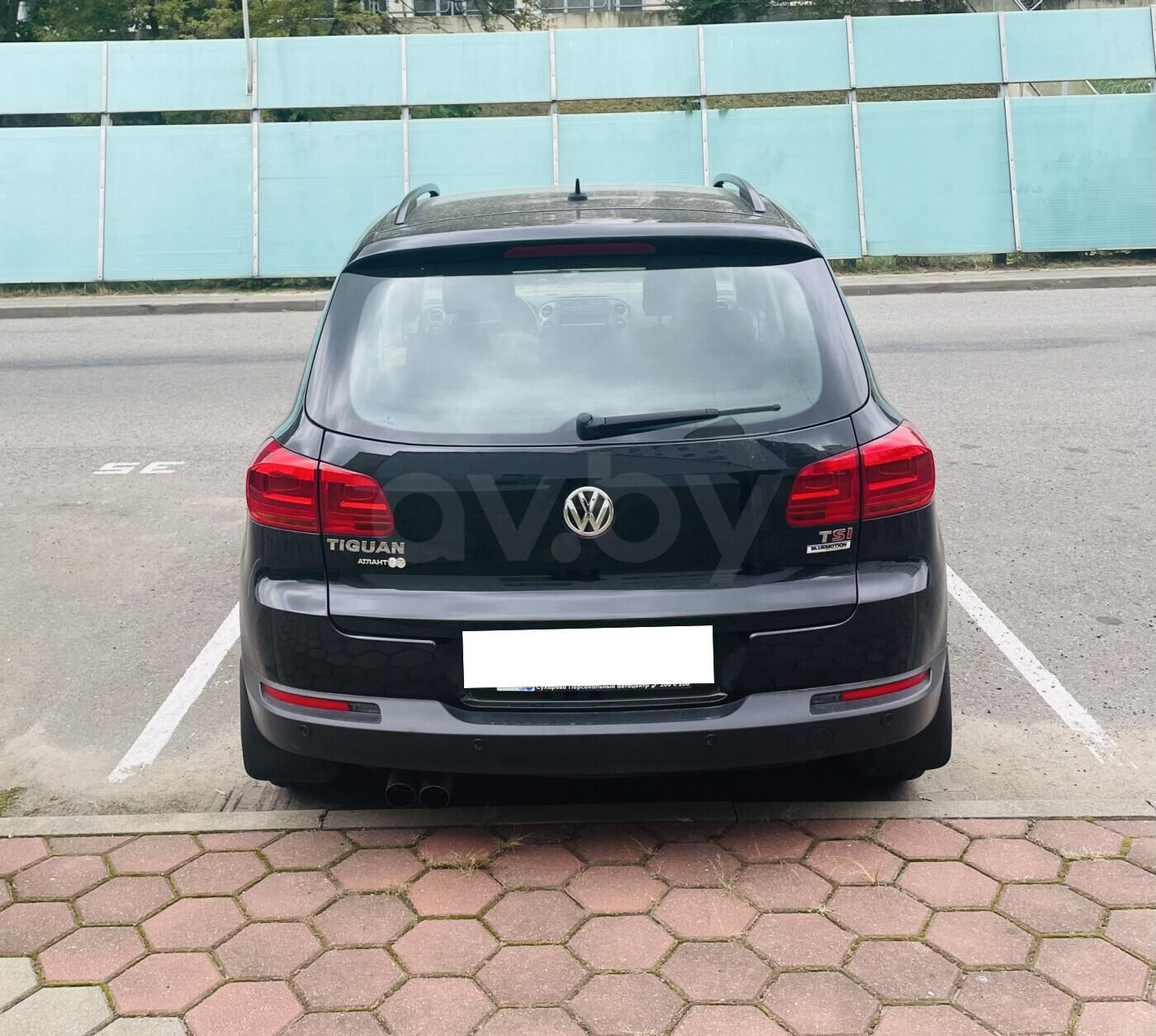Tiguan_2011-2018: (228, 185, 970, 823)
